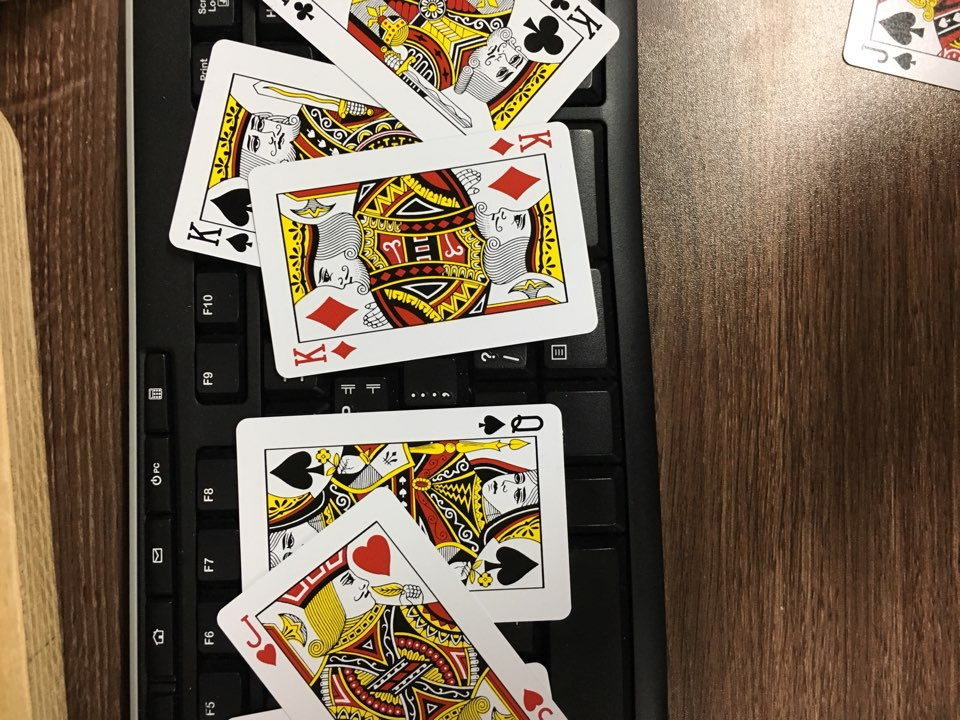jack: (201, 474, 580, 720)
king: (161, 30, 561, 316), (236, 105, 619, 379), (230, 1, 638, 176)
queen: (208, 372, 622, 648)
